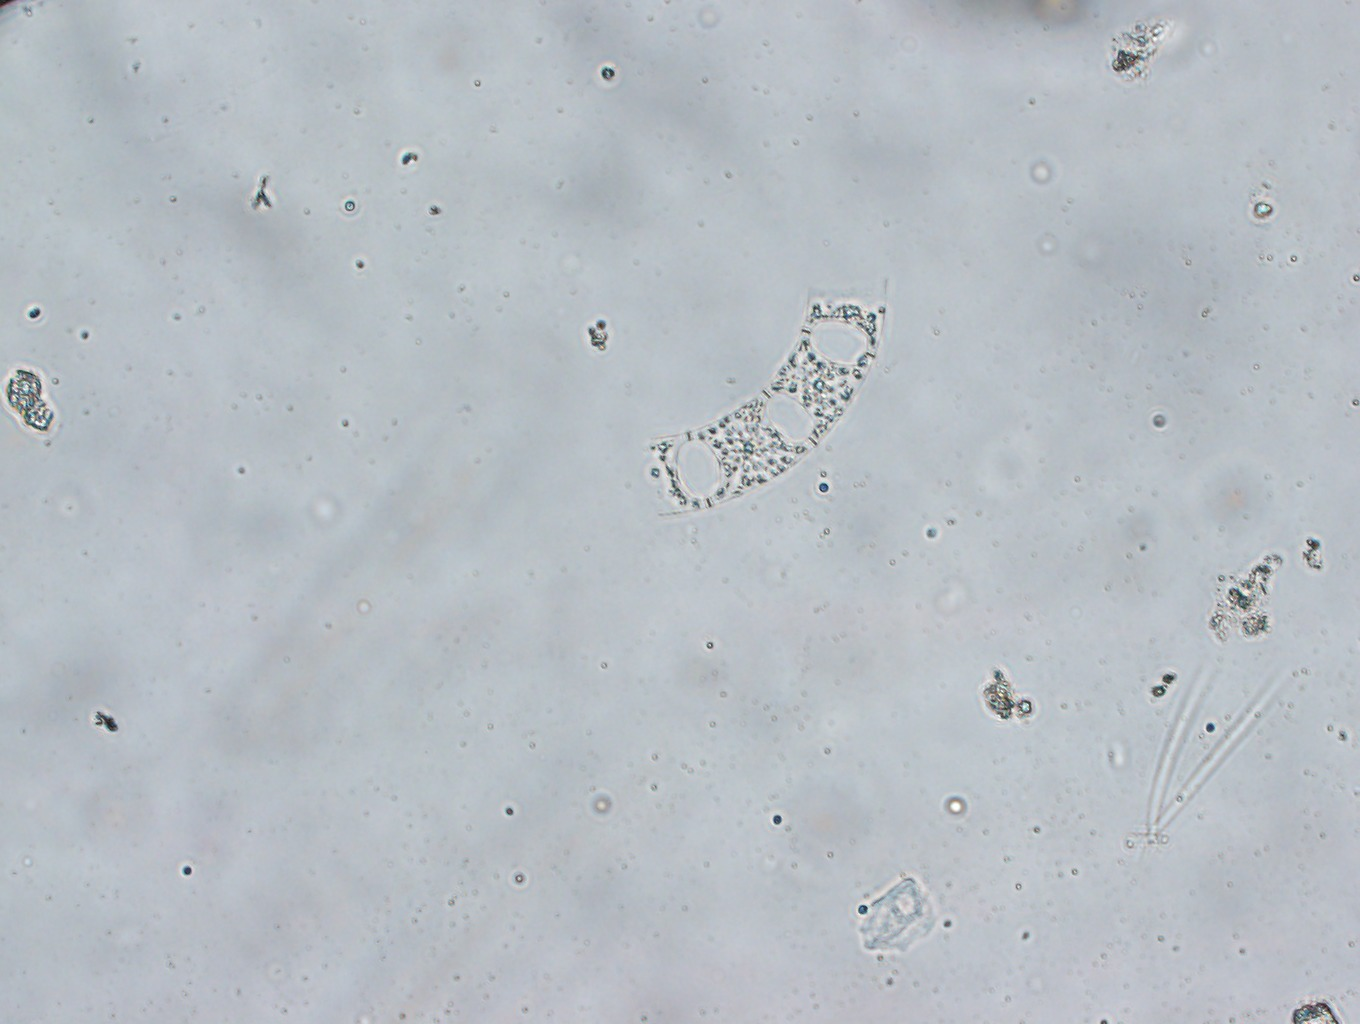eucampia: (642, 281, 885, 516)
